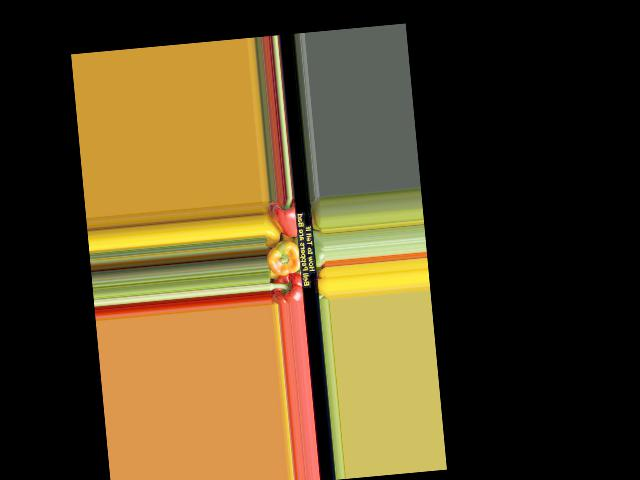bell_pepper: (268, 270, 305, 303)
